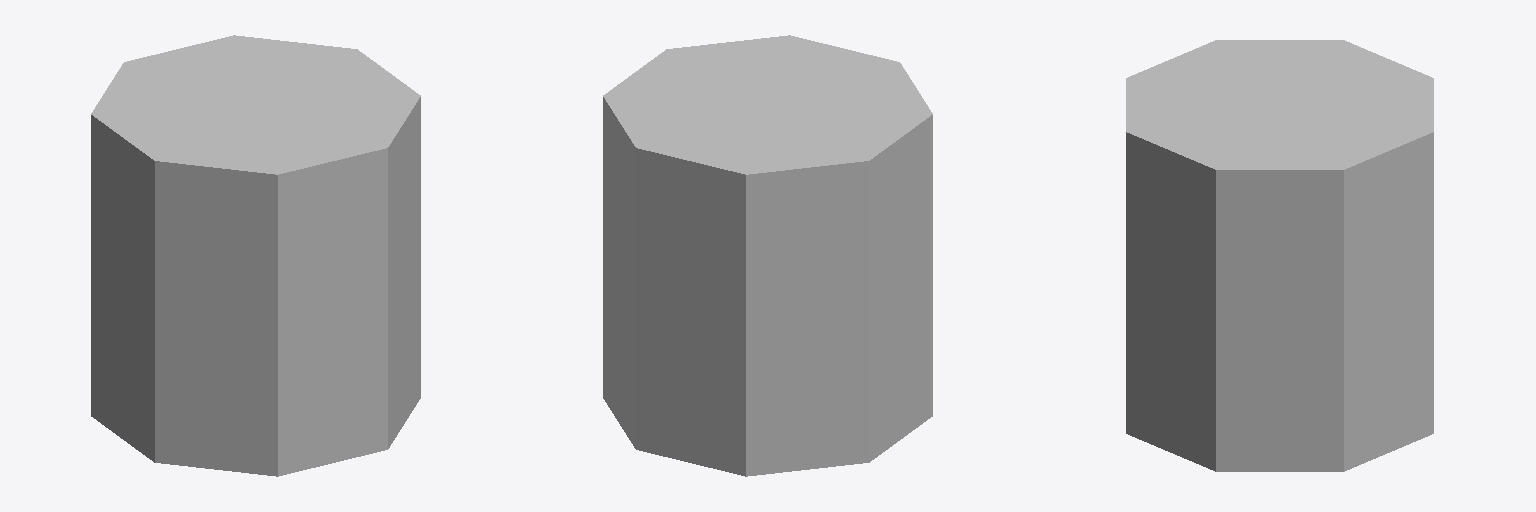
File: octa_prisms.obj
3 views of the same model, side by side, from view 1: azimuth 30°, elevation 25°; view 2: azimuth 150°, elevation 25°; view 3: azimuth 270°, elevation 25° (orthographic).
Visible parts, largest first — view 1: 柱体; view 2: 柱体; view 3: 柱体.
Part boxes in pixels (x1,y1,x2,y2): 柱体: (91, 35, 420, 476); 柱体: (603, 35, 932, 476); 柱体: (1126, 40, 1433, 471).
Bounding box in the file's own units: 1.85 × 2 × 1.85.